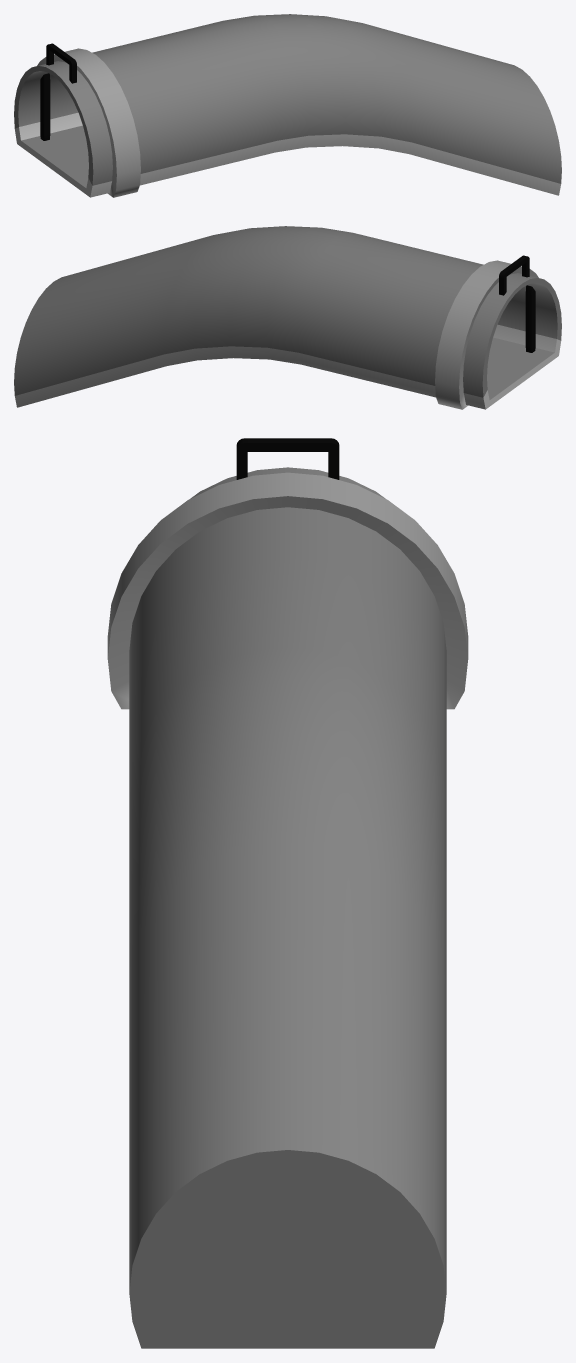
Rendered from Underpass1.fbx.
The picture shows the model from 3 angles, top to bottom: view 1: azimuth 30°, elevation 25°; view 2: azimuth 150°, elevation 25°; view 3: azimuth 270°, elevation 25°; orthographic projection. The views are drawn at different scales.
Visible parts, largest first — view 1: Underpass.001; view 2: Underpass.001; view 3: Underpass.001.
Boxes of the visible parts, left/top/right/bottom form: Underpass.001: left=14, top=14, right=561, bottom=197; Underpass.001: left=14, top=226, right=561, bottom=409; Underpass.001: left=107, top=438, right=468, bottom=1348.
Bounding box in the file's own units: 2833 × 1324 × 944.
